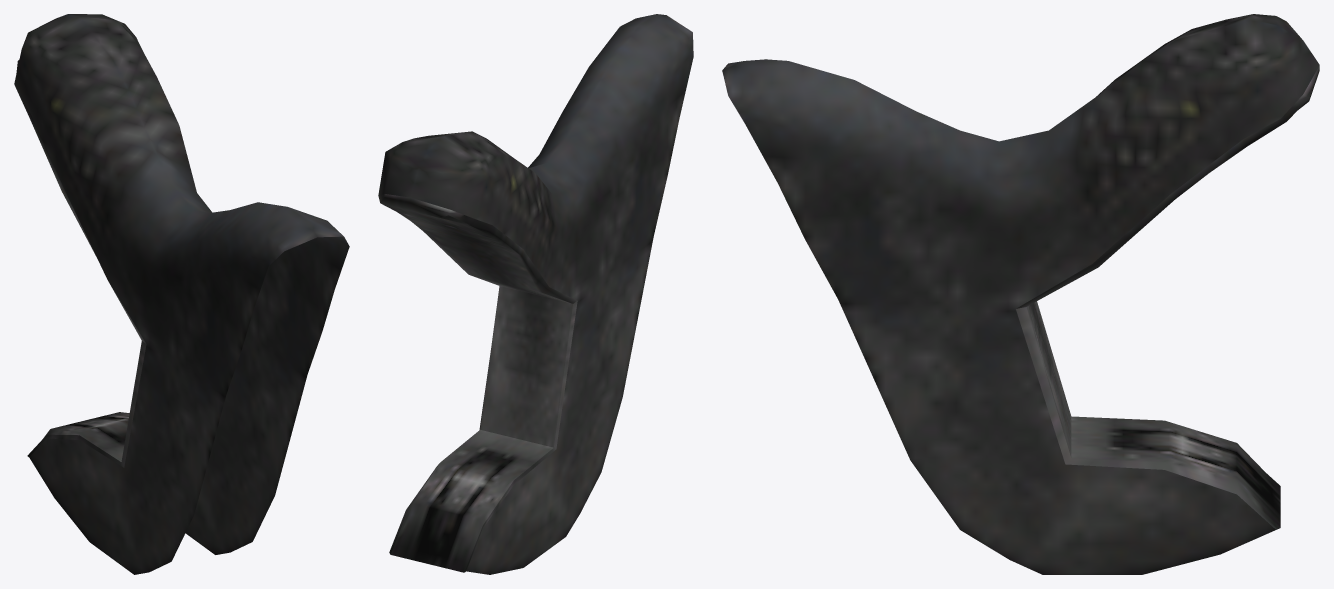
Rendered from zatvor.obj.
3 views of the same model, side by side, from view 1: azimuth 30°, elevation 25°; view 2: azimuth 150°, elevation 25°; view 3: azimuth 270°, elevation 25° (orthographic). The views are drawn at different scales.
Parts seen in each view (by area): view 1: wpn_revolver; view 2: wpn_revolver; view 3: wpn_revolver.
Part boxes in pixels (left/top/right/bottom): wpn_revolver: left=14, top=14, right=349, bottom=574; wpn_revolver: left=378, top=14, right=693, bottom=574; wpn_revolver: left=722, top=14, right=1319, bottom=574.
Bounding box in the file's own units: 0.0091 × 0.039 × 0.0397.
